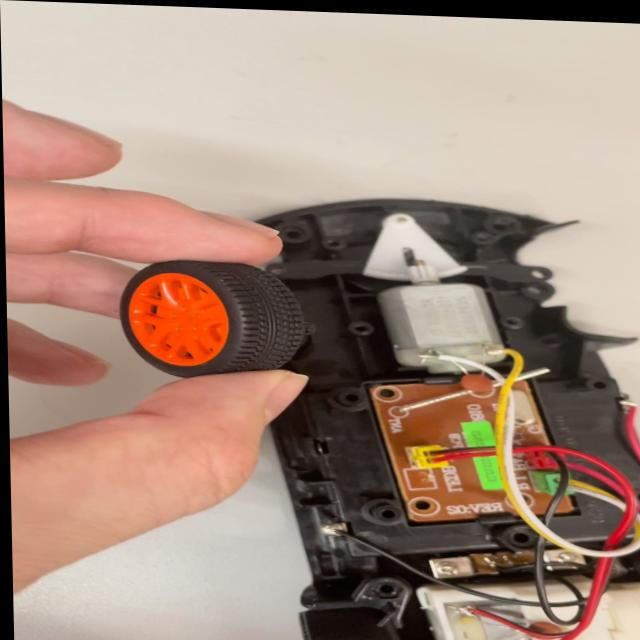motor: (369, 248, 514, 380)
wheel: (116, 241, 317, 389)
